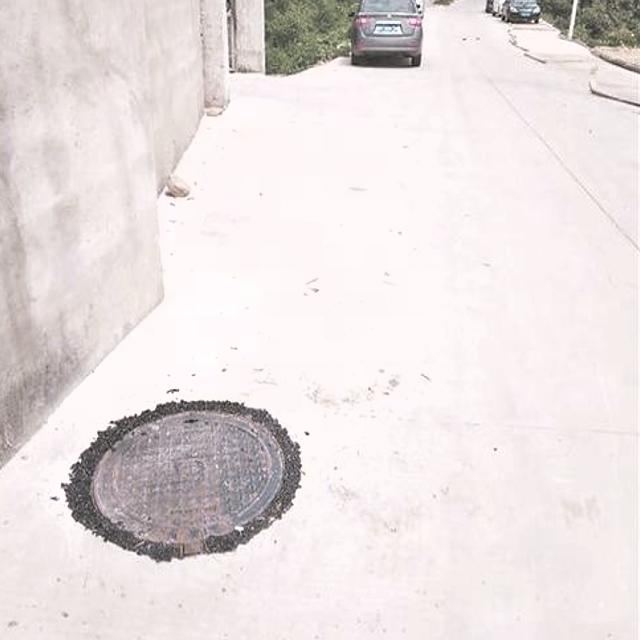good: (33, 375, 336, 578)
